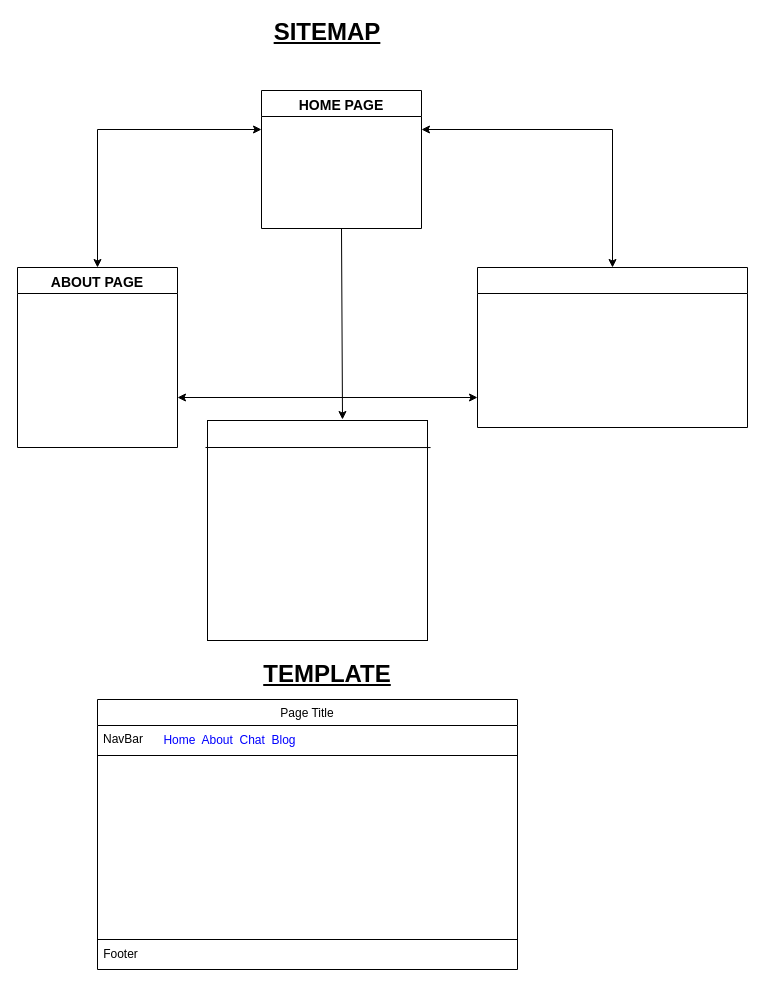
Some shapes in this 765 by 987 pixel diagram are drawn without their labels. The box of each missing label's shape, as (x1, y1, x2, y2) in pixels:
BLOG PAGE: (206, 420, 428, 640)
CHAT APPLICATION PAGE: (476, 266, 748, 428)
